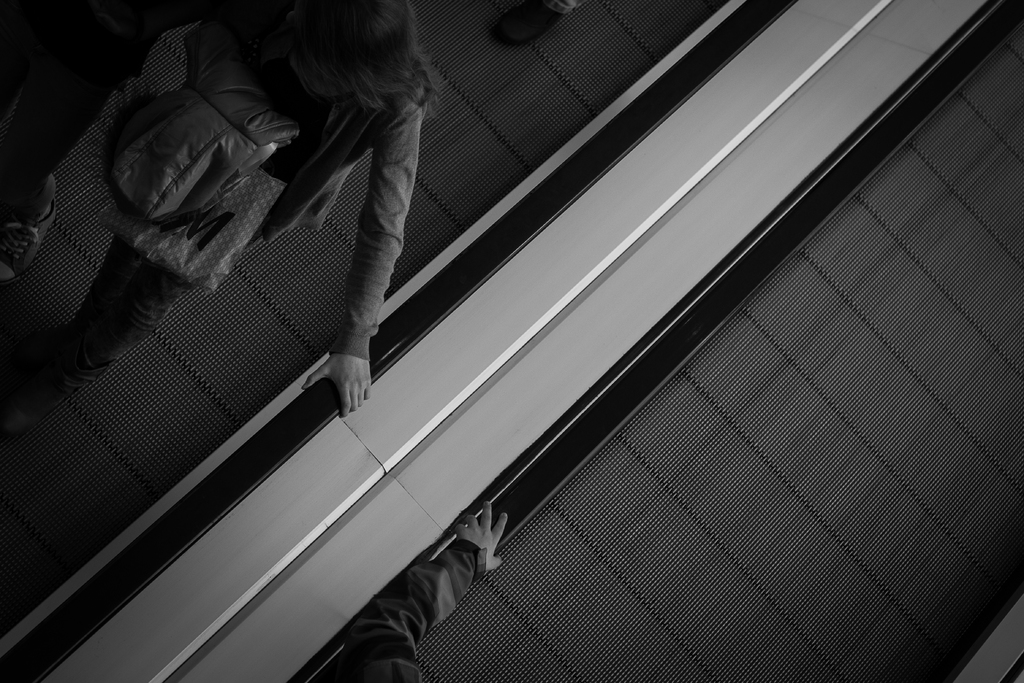person: (0, 0, 428, 324), (310, 489, 536, 669)
